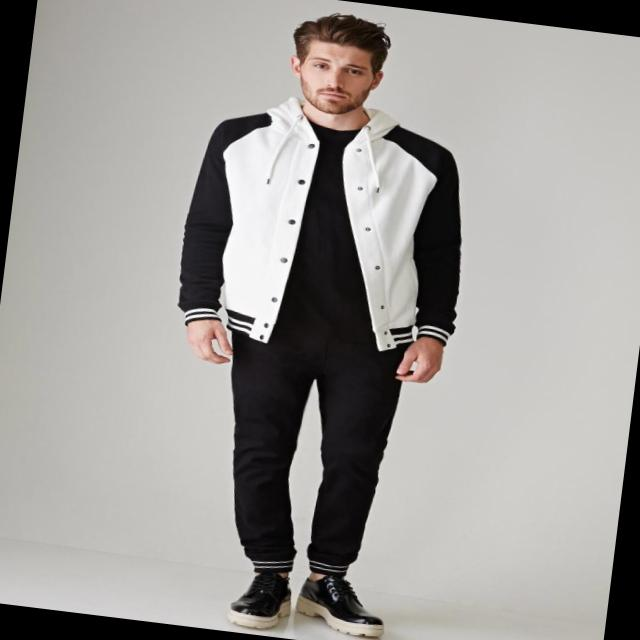Jacket: (170, 97, 490, 360)
